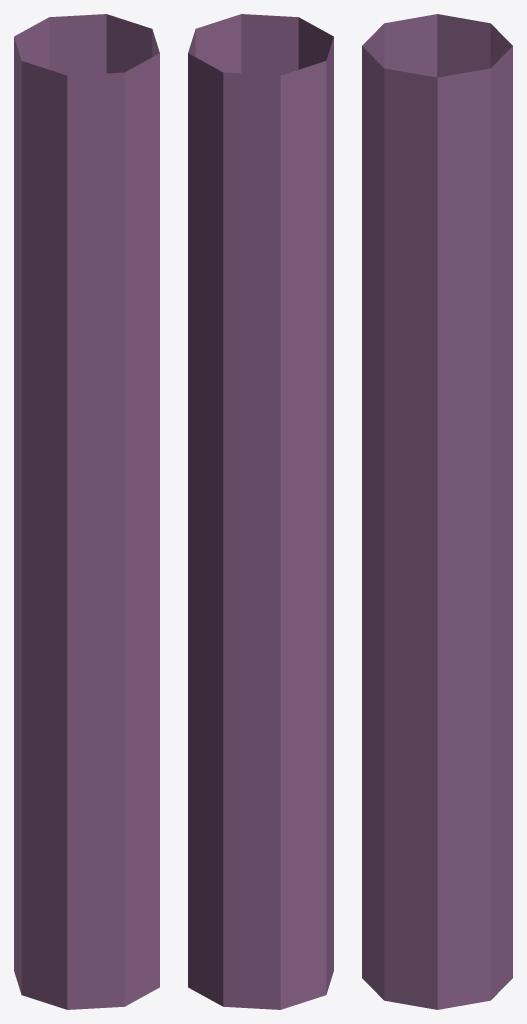
File: Column.fbx
The picture shows the model from 3 angles, left to right: view 1: azimuth 30°, elevation 25°; view 2: azimuth 150°, elevation 25°; view 3: azimuth 270°, elevation 25°; orthographic projection.
Visible parts, largest first — view 1: polySurface127; view 2: polySurface127; view 3: polySurface127.
Part boxes in pixels (<box>): polySurface127: <box>14,14,159,1009</box>; polySurface127: <box>188,14,333,1009</box>; polySurface127: <box>362,14,512,1009</box>.
Size of the model in its own units: 2 by 13.65 by 2.
